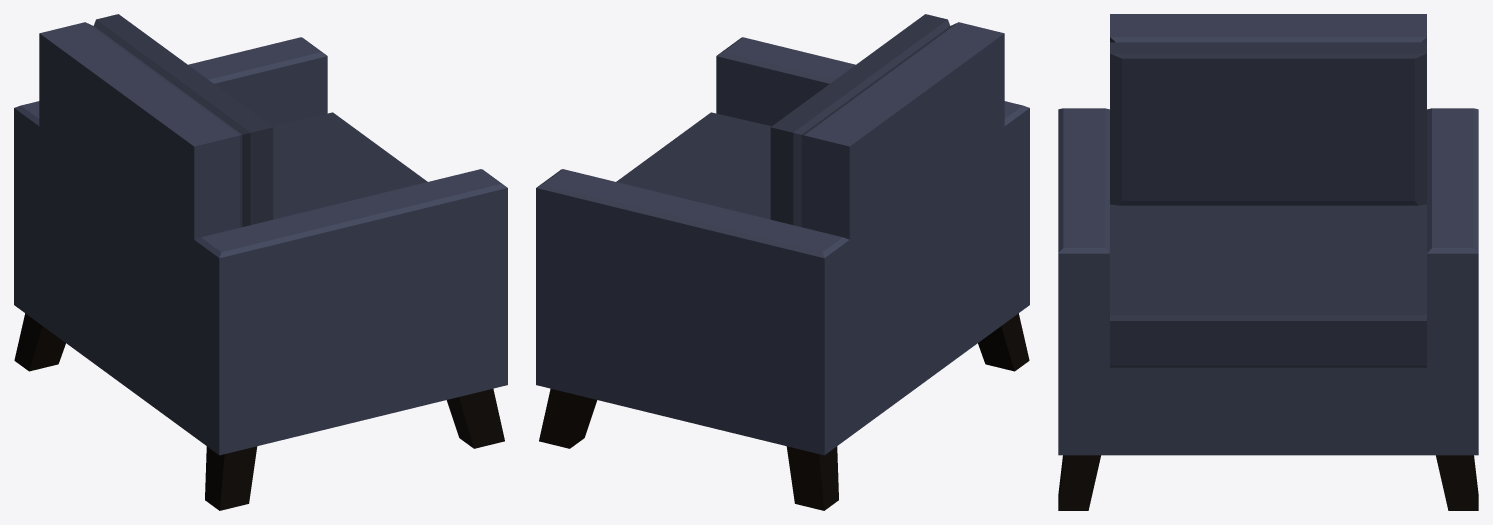
File: MiniSofa.obj
3 views of the same model, side by side, from view 1: azimuth 30°, elevation 25°; view 2: azimuth 150°, elevation 25°; view 3: azimuth 270°, elevation 25° (orthographic). The views are drawn at different scales.
Visible parts, largest first — view 1: MiniSofa_Cube.007; view 2: MiniSofa_Cube.007; view 3: MiniSofa_Cube.007.
Boxes of the visible parts, x1,y1,x2,y2 form: MiniSofa_Cube.007: [14, 14, 507, 510]; MiniSofa_Cube.007: [536, 14, 1029, 510]; MiniSofa_Cube.007: [1058, 14, 1478, 510].
Size of the model in its own units: 1.17 by 1.31 by 1.41.
